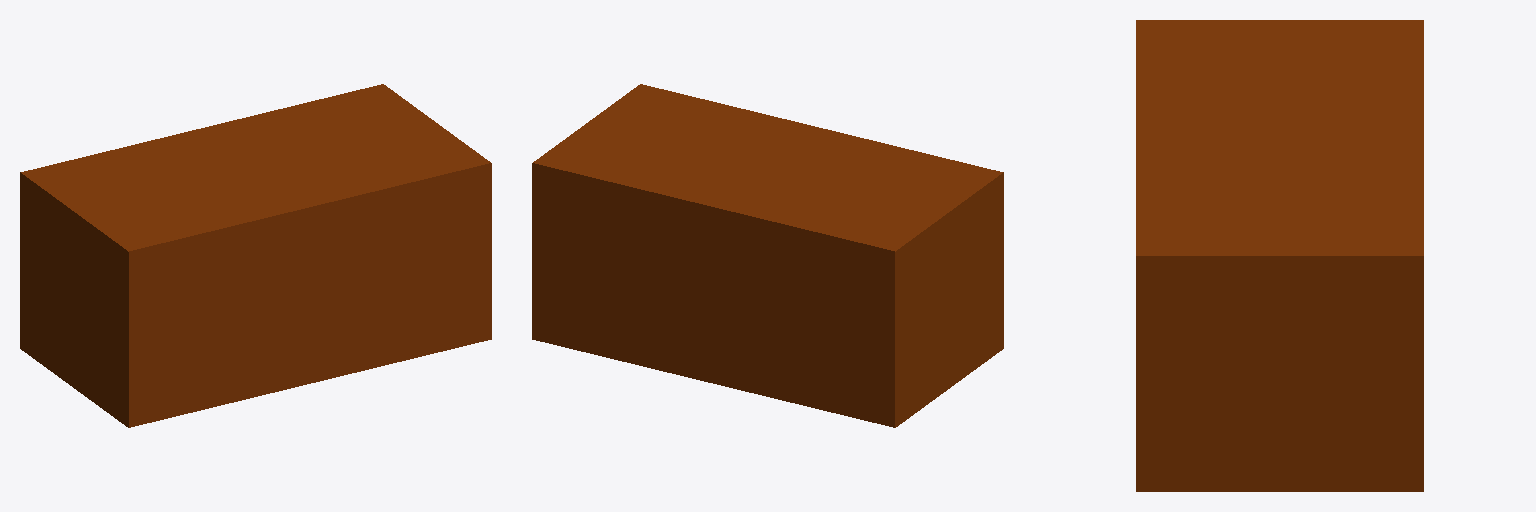
The robot description file, URDF, robot "handle_head":
<?xml version="1.0"?>
<robot name="handle_head">

  <link name="handle_head">
    <!-- Handle -->
    <visual>
      <origin xyz="0 0 0" rpy="0 0 0"/>
      <geometry>
        <box size="0.11208502426867861 0.057778832067847466 0.052106406008063794"/>
      </geometry>
      <material name="brown">
        <color rgba="0.55 0.27 0.07 1.0"/>
      </material>
    </visual>
    <collision>
      <origin xyz="0 0 0" rpy="0 0 0"/>
      <geometry>
        <box size="0.11208502426867861 0.057778832067847466 0.052106406008063794"/>
      </geometry>
    </collision>

    <inertial>
      <origin xyz="0 0 0" rpy="0 0 0"/>
      <mass value="0.18918010566107854"/>
      <inertia ixx="9.543302333576596e-05" iyy="0.000240859857323598" izz="0.00025068643778701656" ixy="0" ixz="0" iyz="0"/>
    </inertial>
  </link>

</robot>

--- Facts derived from the render (not from the file) ---
The picture shows the robot from 3 angles, left to right: view 1: azimuth 30°, elevation 25°; view 2: azimuth 150°, elevation 25°; view 3: azimuth 270°, elevation 25°; orthographic projection.
Robot: handle_head — 1 links, 0 joints (none); root link handle_head; default pose: all joints at 0.
Visible links, largest first — view 1: handle_head; view 2: handle_head; view 3: handle_head.
Boxes of the visible links, x1,y1,x2,y2 form: handle_head: (20,84,491,427); handle_head: (532,84,1003,427); handle_head: (1136,20,1423,491).
Bounding box of the posed robot: 0.1121 × 0.0578 × 0.0521 m (x, y, z).
Geometry: primitives only (box / cylinder / sphere), no mesh files.
